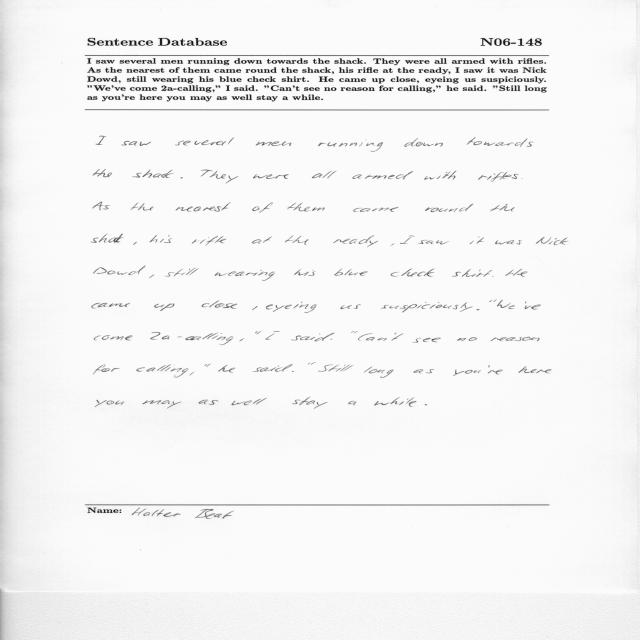word: (381, 300, 497, 313), (150, 332, 234, 345), (318, 139, 383, 152), (137, 364, 189, 378), (467, 137, 534, 147), (215, 270, 275, 281), (176, 202, 231, 212), (266, 302, 316, 313), (352, 171, 413, 180), (334, 236, 379, 248), (201, 170, 239, 184), (175, 138, 234, 146), (94, 266, 146, 275), (292, 397, 328, 409), (374, 397, 417, 407), (425, 204, 473, 212), (132, 169, 174, 178), (358, 333, 403, 341), (364, 366, 394, 378), (391, 269, 435, 277), (404, 138, 443, 147), (142, 400, 181, 409), (291, 333, 334, 341), (192, 236, 226, 246), (478, 172, 511, 182), (452, 269, 492, 277), (253, 364, 293, 372), (165, 268, 199, 277), (287, 203, 325, 211), (424, 171, 457, 180), (91, 234, 123, 243), (202, 301, 238, 309), (93, 364, 120, 374), (536, 237, 568, 245), (231, 398, 267, 405), (491, 337, 540, 342), (318, 365, 353, 372), (285, 235, 309, 245), (334, 269, 368, 276), (252, 202, 273, 213), (519, 366, 552, 373), (95, 335, 133, 341), (354, 207, 399, 212), (95, 400, 124, 407), (312, 171, 337, 179), (131, 202, 153, 211), (453, 369, 481, 376), (92, 303, 130, 308), (256, 141, 292, 146), (253, 174, 289, 179), (150, 235, 172, 243), (506, 269, 528, 277), (490, 204, 515, 211), (154, 303, 175, 311), (294, 269, 316, 276), (93, 170, 112, 178), (121, 141, 151, 146), (412, 338, 441, 343), (252, 237, 272, 244), (93, 202, 110, 210), (218, 365, 235, 373), (400, 235, 415, 244), (495, 240, 522, 245), (265, 331, 280, 340), (488, 365, 503, 374), (525, 302, 541, 310), (418, 240, 449, 244), (470, 236, 484, 244), (340, 304, 361, 309), (497, 300, 510, 308), (199, 400, 218, 405), (96, 136, 106, 145), (414, 369, 435, 373), (457, 337, 477, 341), (348, 401, 357, 405), (512, 174, 519, 179), (508, 305, 515, 309), (252, 306, 258, 310), (204, 364, 211, 367), (308, 362, 315, 365), (190, 372, 195, 376), (255, 332, 261, 335), (150, 275, 155, 278), (239, 339, 244, 342), (351, 332, 358, 334), (133, 242, 137, 245), (391, 243, 394, 246), (181, 177, 183, 179), (476, 309, 480, 310), (425, 404, 427, 406), (330, 339, 333, 340), (492, 276, 494, 277), (292, 371, 294, 372)
